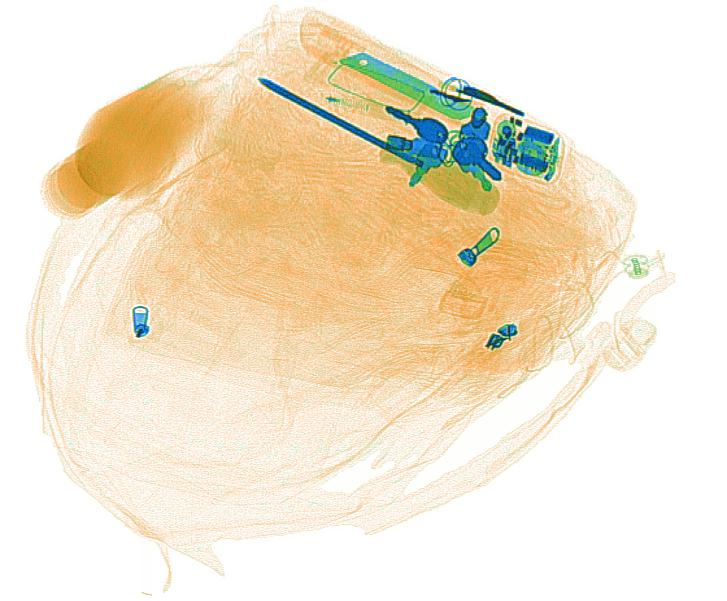knife: (300, 11, 489, 127)
